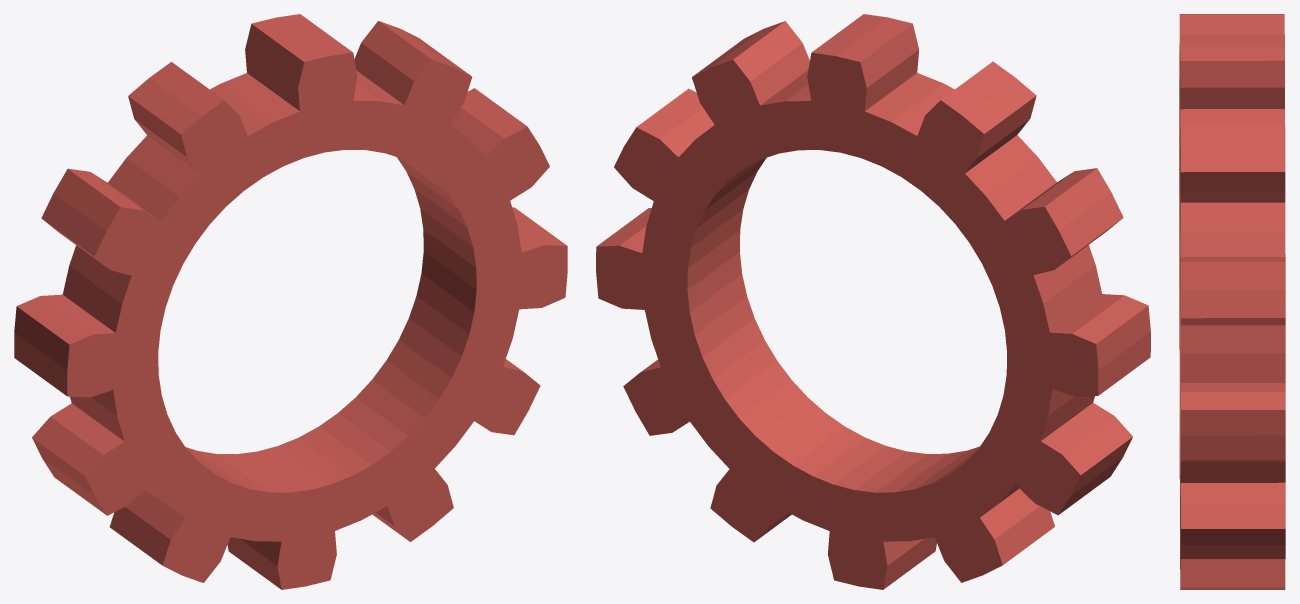
3 renders of one model, left to right at view 1: azimuth 30°, elevation 25°; view 2: azimuth 150°, elevation 25°; view 3: azimuth 270°, elevation 25°, orthographic.
Parts seen in each view (by area): view 1: Gear.001; view 2: Gear.001; view 3: Gear.001.
Boxes of the visible parts, x1,y1,x2,y2 form: Gear.001: [14, 14, 567, 589]; Gear.001: [596, 14, 1150, 589]; Gear.001: [1179, 14, 1285, 589].
Bounding box in the file's own units: 2.2 × 2.2 × 0.407.
